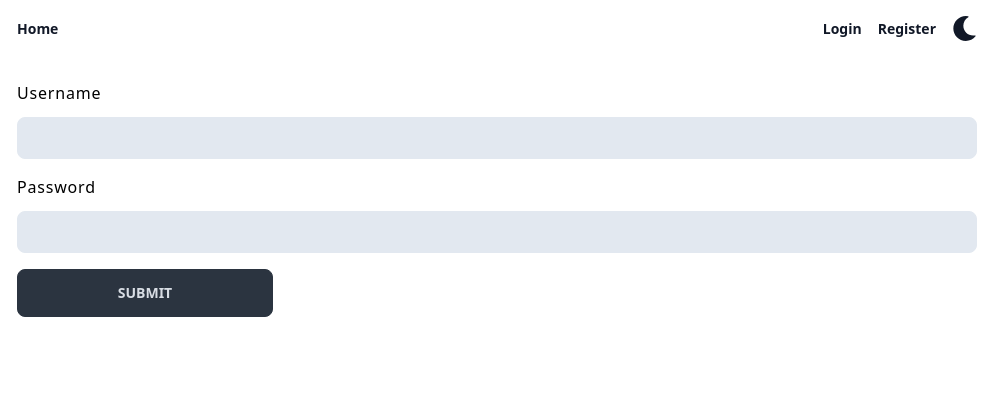
Test: Login Page › Action for Login › should show error message when some of input is missing a value
The image size is (995, 406).
Click the button with aria-label "btn-submit" at (145, 293), box [17,269,273,317]
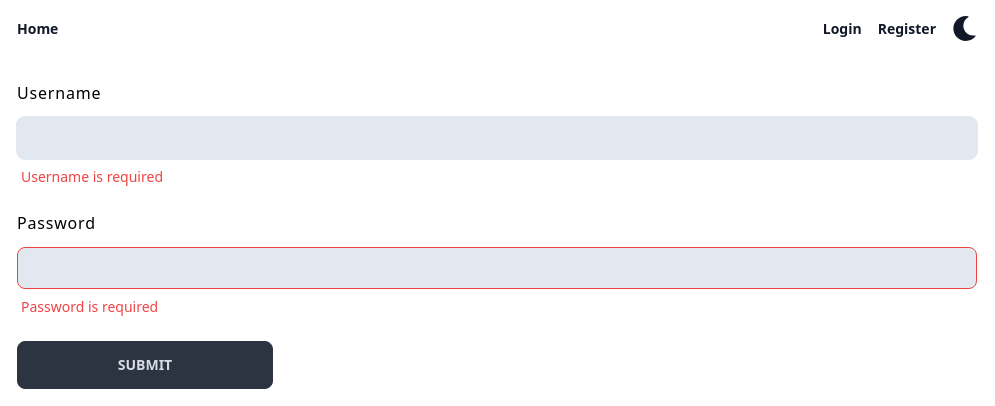
Expected: the text "Username is required" is shown, [21,167,163,187]
Expected: the text "Password is required" is shown, [21,297,158,317]
